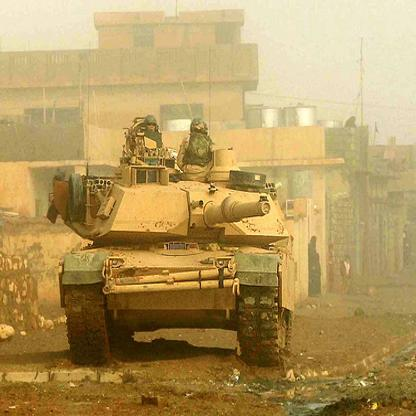Tank: (50, 114, 298, 366)
